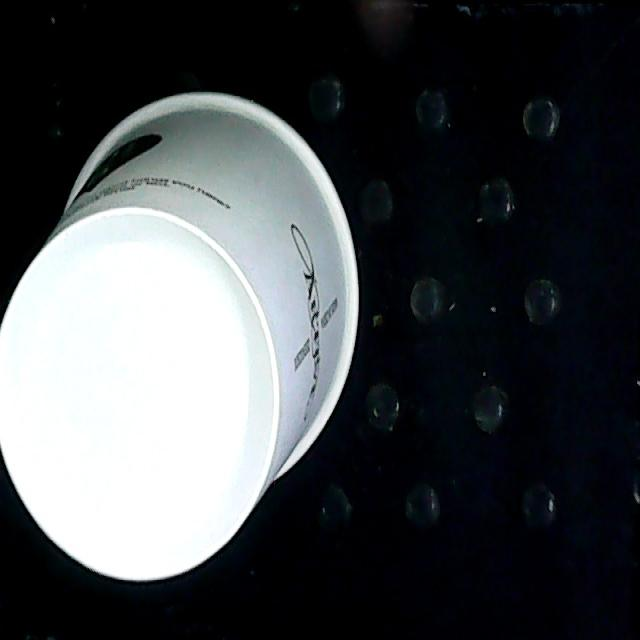-Recyclables - paper cup-: (0, 97, 372, 581)
